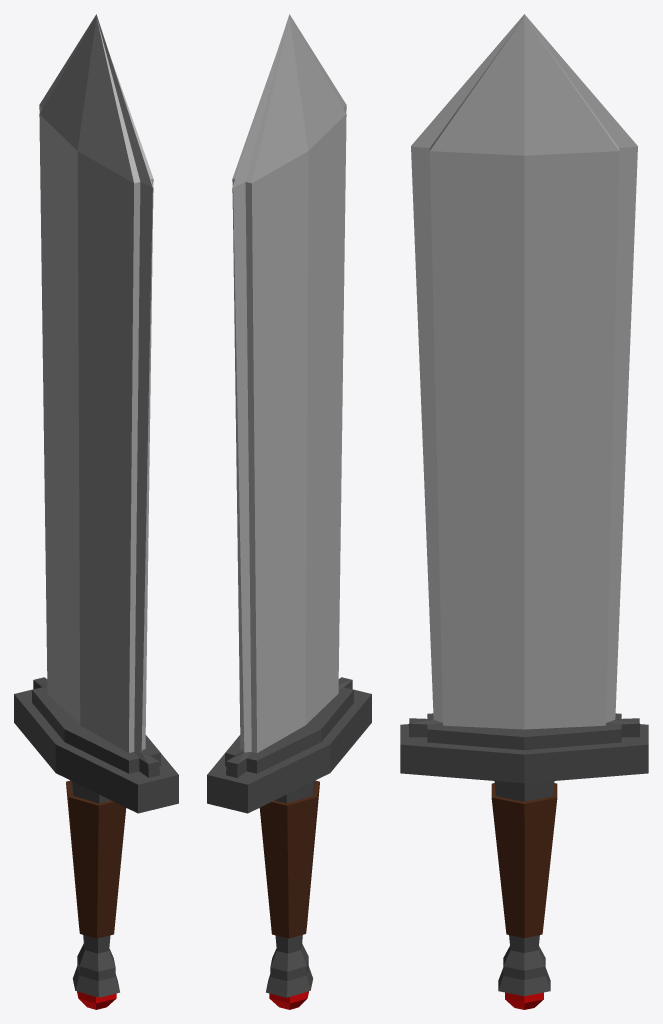
The model's file is Sword.fbx.
The picture shows the model from 3 angles, left to right: view 1: azimuth 30°, elevation 25°; view 2: azimuth 150°, elevation 25°; view 3: azimuth 270°, elevation 25°; orthographic projection.
Visible parts, largest first — view 1: Cylinder; view 2: Cylinder; view 3: Cylinder.
Part boxes in pixels (x1,y1,x2,y2): Cylinder: (14, 14, 178, 1009); Cylinder: (207, 14, 371, 1009); Cylinder: (400, 14, 648, 1009).
Size of the model in its own units: 18.39 by 214 by 48.45.
